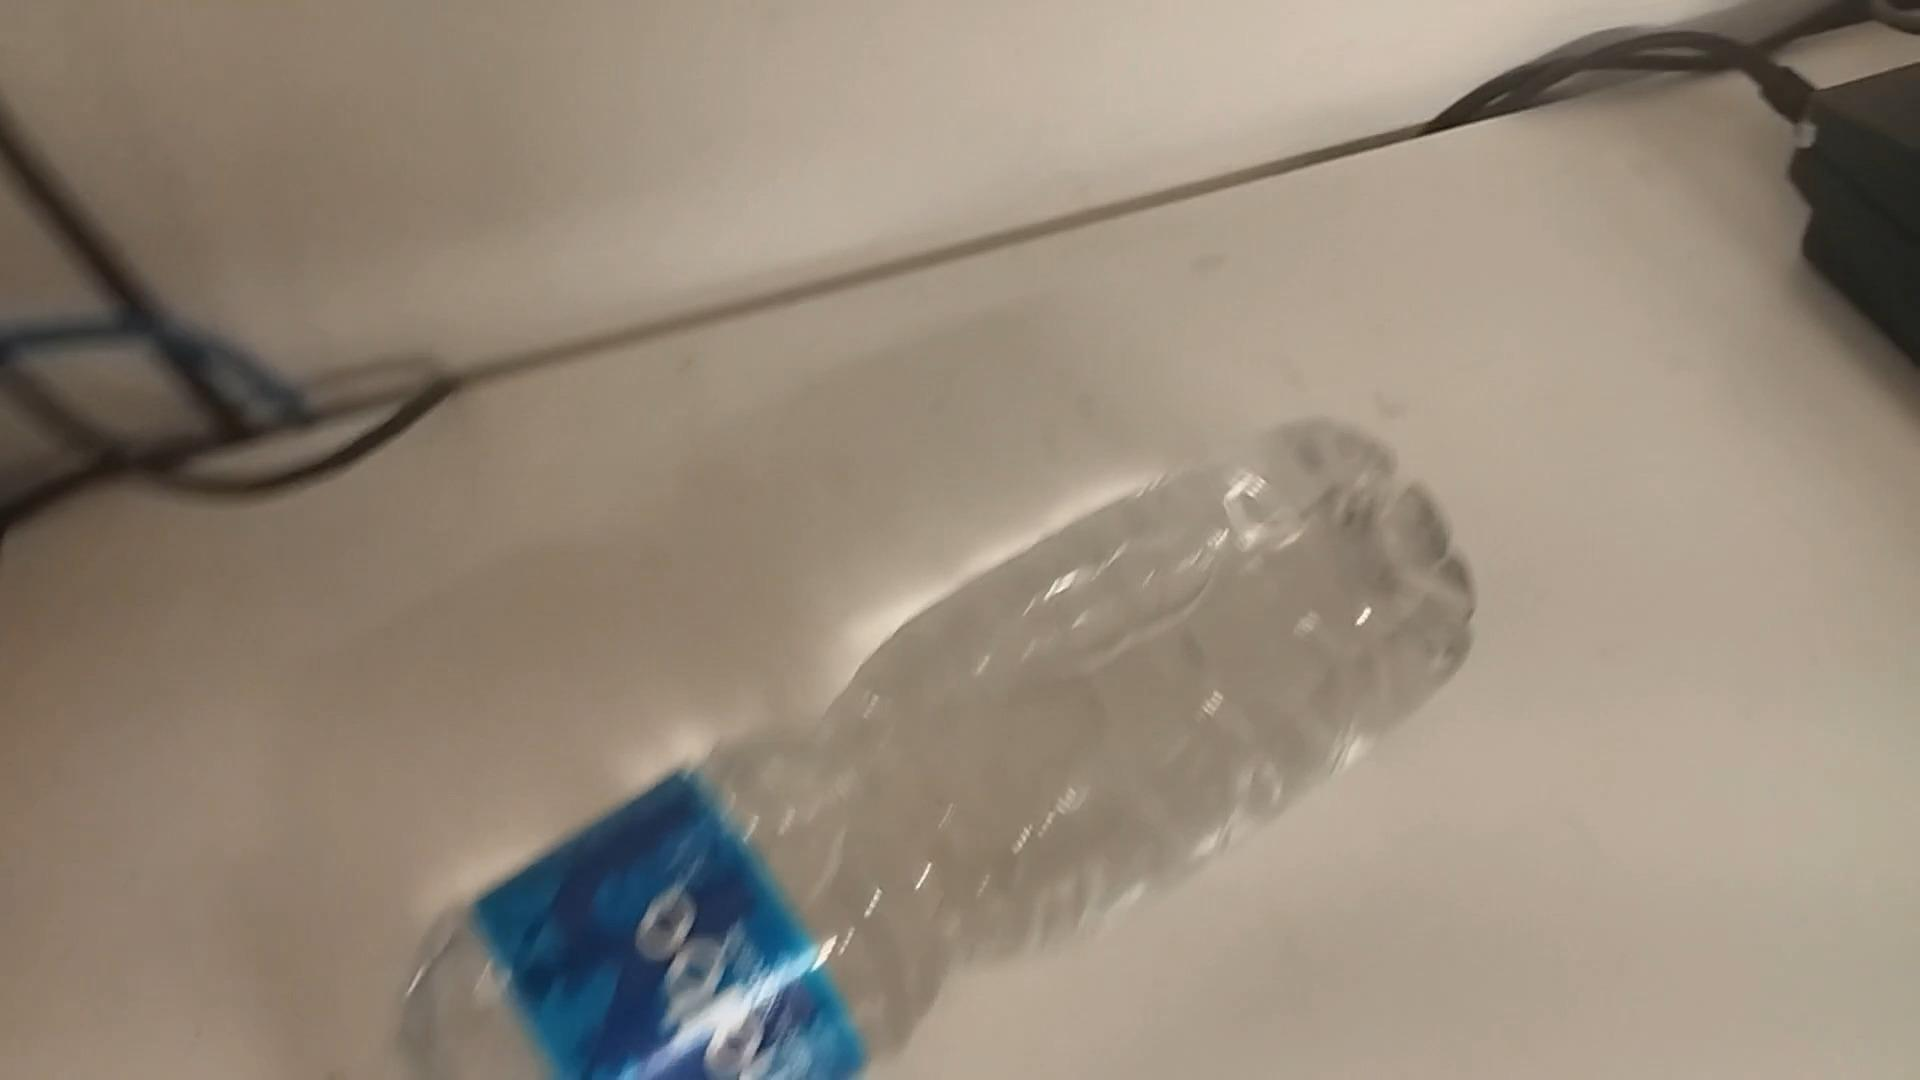agua: (410, 418, 1448, 1072)
